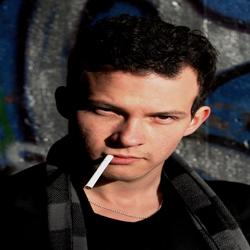smoking: (83, 150, 148, 192)
